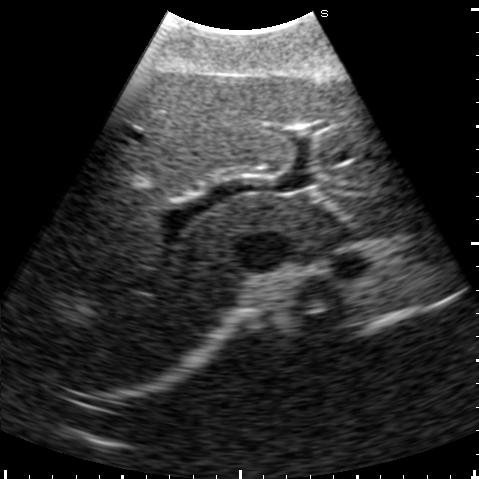IVC: (238, 234, 285, 268)
S1: (271, 199, 331, 243)
S2: (318, 185, 430, 233)
S3: (295, 80, 407, 188)
S4: (105, 76, 314, 198)
Tumor: (129, 176, 152, 190)
